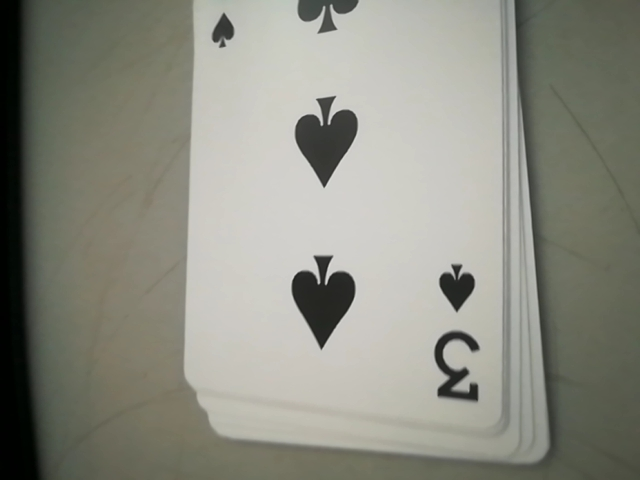ht 3: (429, 259, 491, 412)
